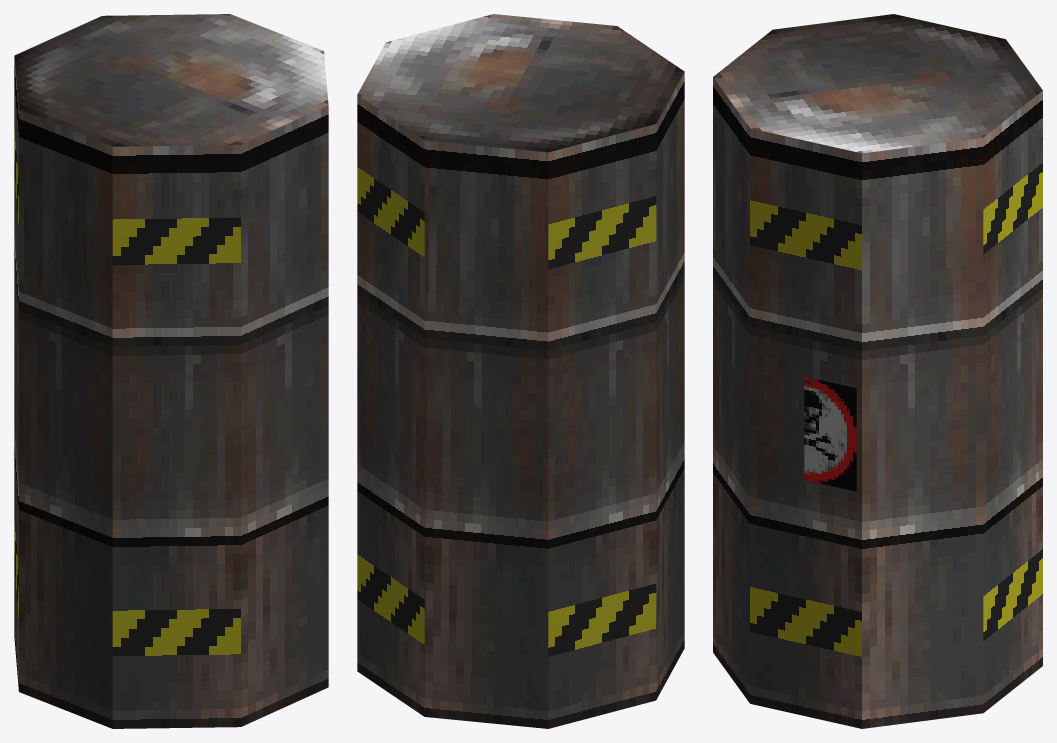
The model's file is primary_140.glb.
The picture shows the model from 3 angles, left to right: view 1: azimuth 30°, elevation 25°; view 2: azimuth 150°, elevation 25°; view 3: azimuth 270°, elevation 25°; orthographic projection.
Visible parts, largest first — view 1: Object; view 2: Object; view 3: Object.
Part boxes in pixels (x1,y1,x2,y2): Object: (14,14,328,728); Object: (357,14,684,728); Object: (713,14,1042,728).
Size of the model in its own units: 0.7768 by 1.49 by 0.7768.
9 materials, 9 textured.
